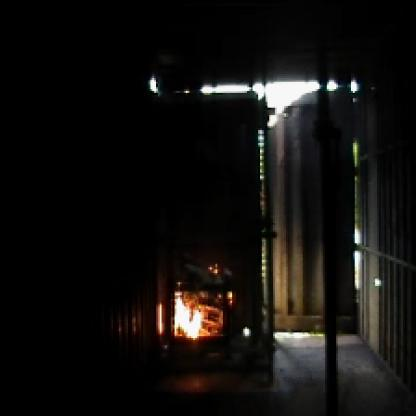Fire: (143, 279, 240, 347)
